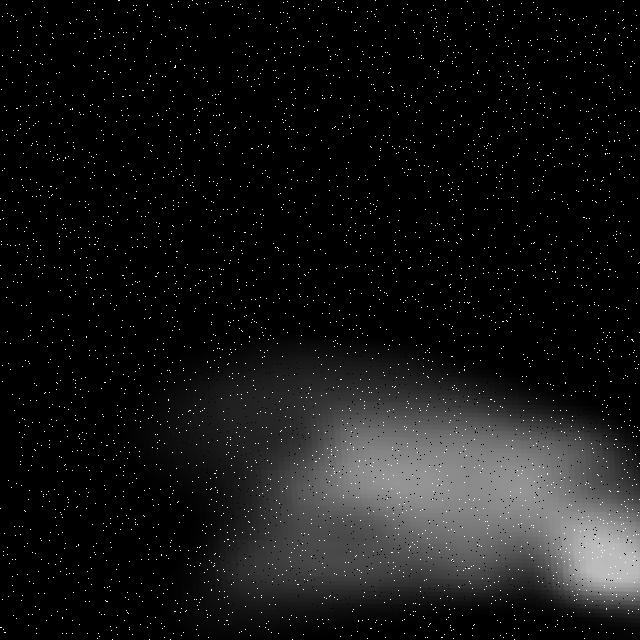person: (84, 291, 640, 640)
